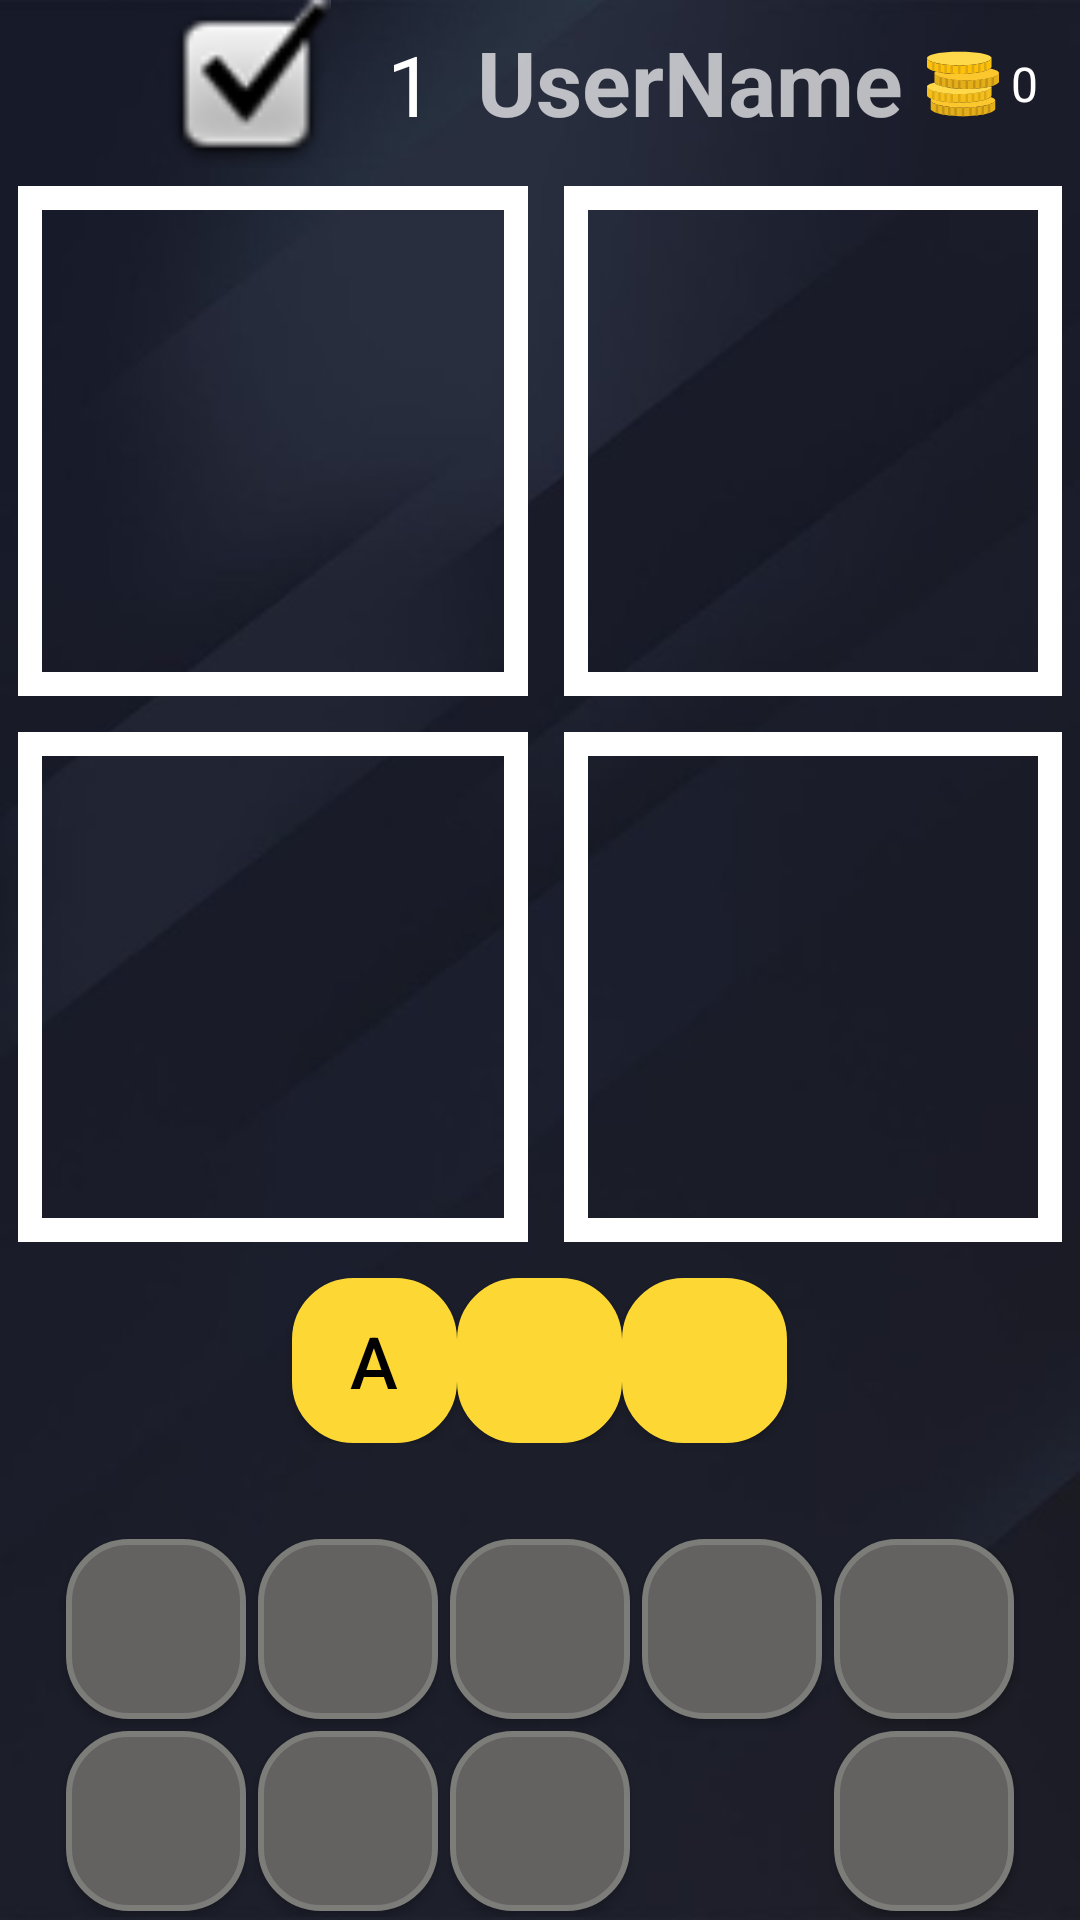

Icon click points for this 1080x1920 phone screenshot, format (x=x, y=y):
coins: (x=963, y=84)
